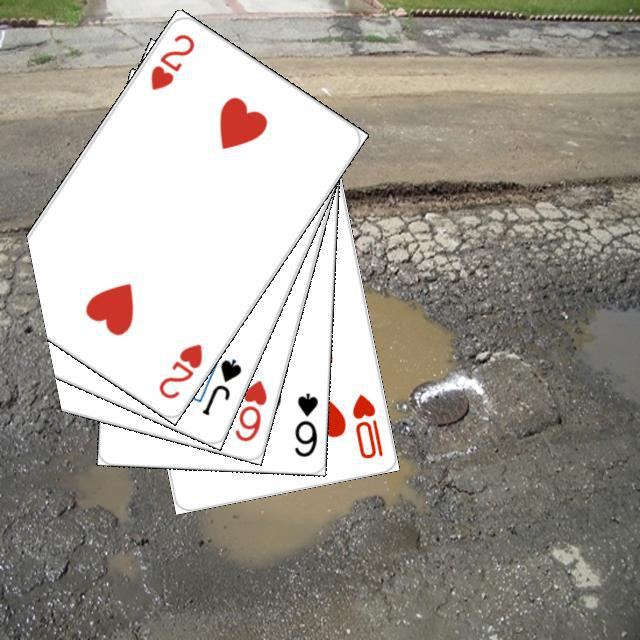10h: (347, 389, 385, 461)
2h: (145, 28, 197, 92), (153, 338, 205, 401)
6h: (229, 375, 269, 444)
6s: (290, 388, 319, 458)
Js: (197, 354, 243, 417)
